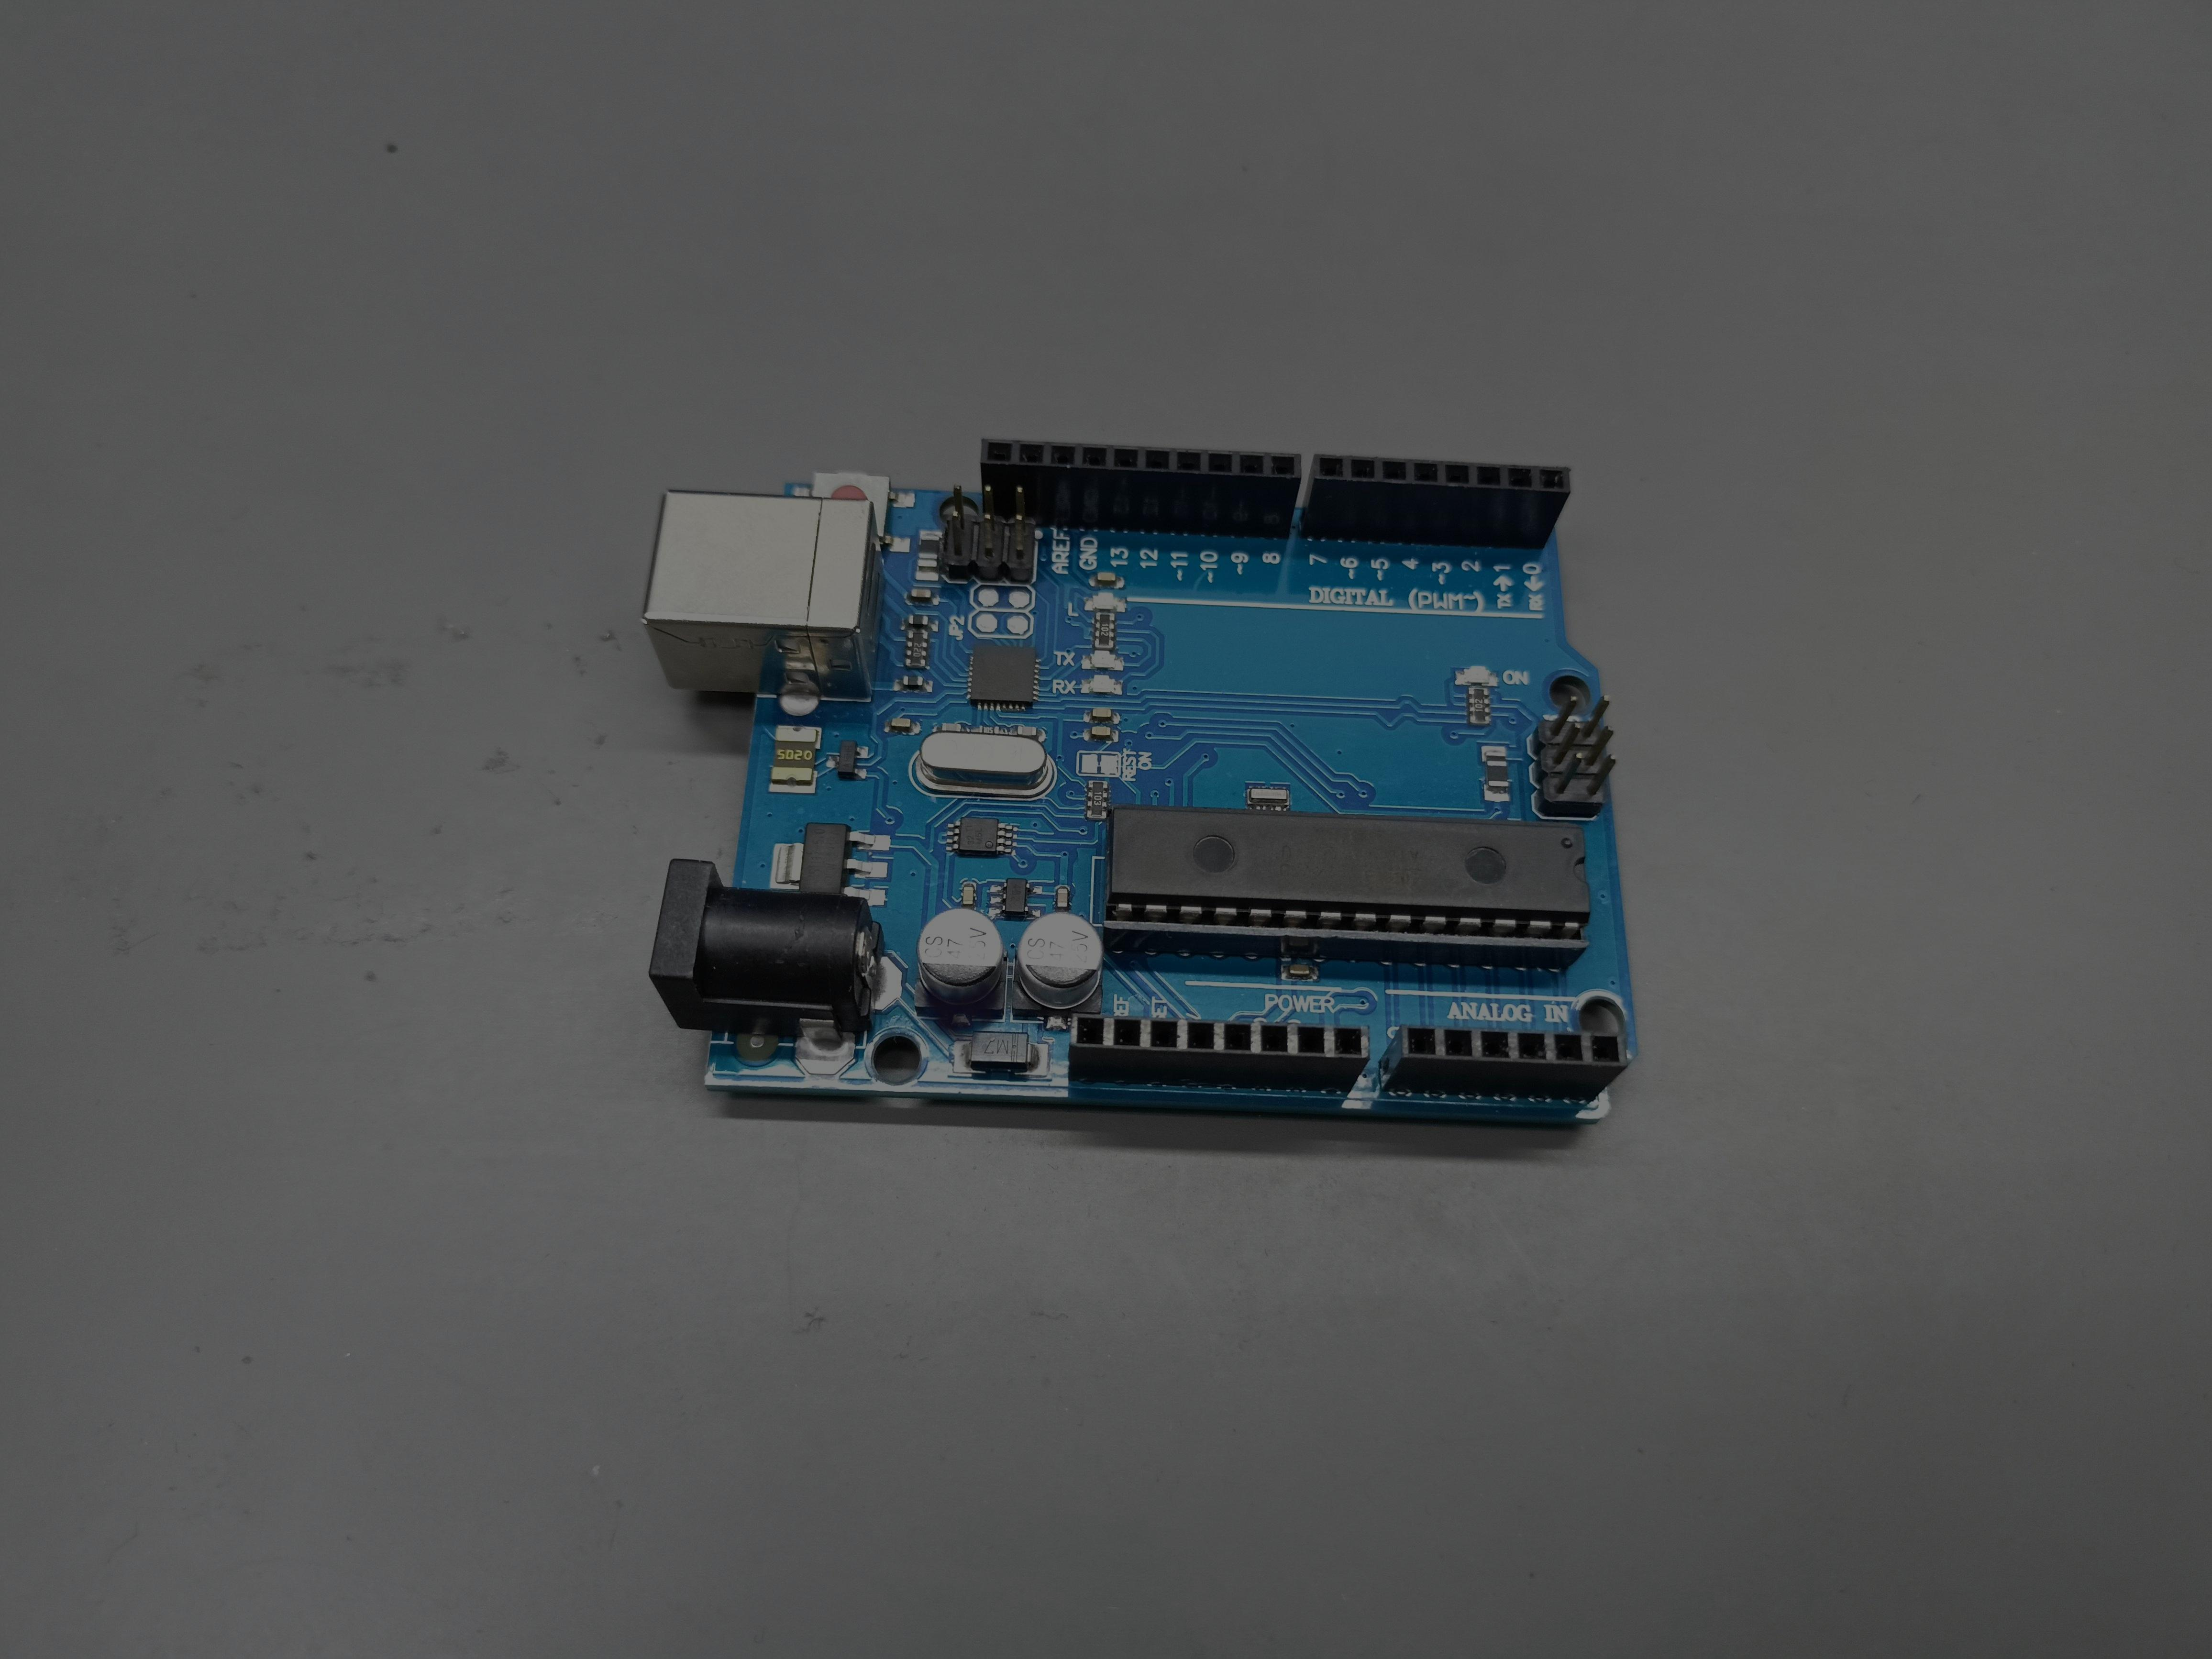ATmega328 chip: (1103, 803, 1590, 969)
Arduino board: (643, 437, 1637, 1124)
Overheat: (925, 978, 1000, 1042)
USB: (641, 490, 885, 697)
capacitor: (914, 908, 1008, 1016), (1012, 911, 1104, 1018)
pins: (981, 437, 1301, 538), (1299, 453, 1571, 549), (1068, 1012, 1369, 1093), (1379, 1025, 1627, 1100)
resistor: (1087, 781, 1109, 821), (1468, 687, 1491, 725), (906, 631, 928, 667), (1094, 612, 1115, 650)
